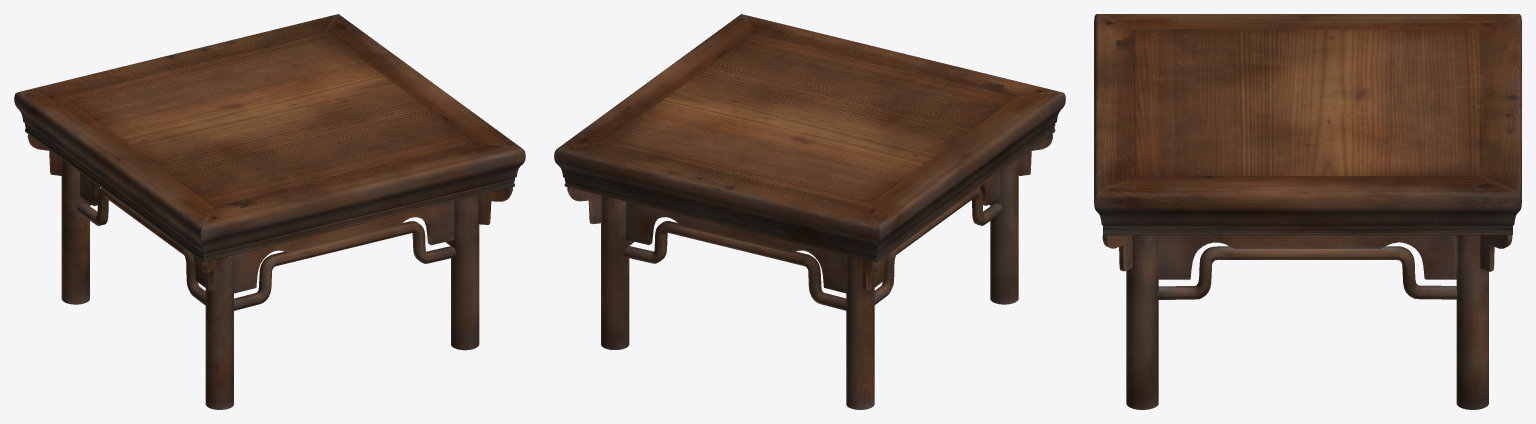
Rendered from chinese_tea_table.glb.
The picture shows the model from 3 angles, left to right: view 1: azimuth 30°, elevation 25°; view 2: azimuth 150°, elevation 25°; view 3: azimuth 270°, elevation 25°; orthographic projection. The views are drawn at different scales.
Parts seen in each view (by area): view 1: chinese_tea_table; view 2: chinese_tea_table; view 3: chinese_tea_table.
Boxes of the visible parts, x1,y1,x2,y2 form: chinese_tea_table: (14, 14, 525, 409); chinese_tea_table: (554, 14, 1065, 409); chinese_tea_table: (1094, 14, 1521, 409).
Bounding box in the file's own units: 0.8413 × 0.4987 × 0.8357.
1 material, 1 textured.
